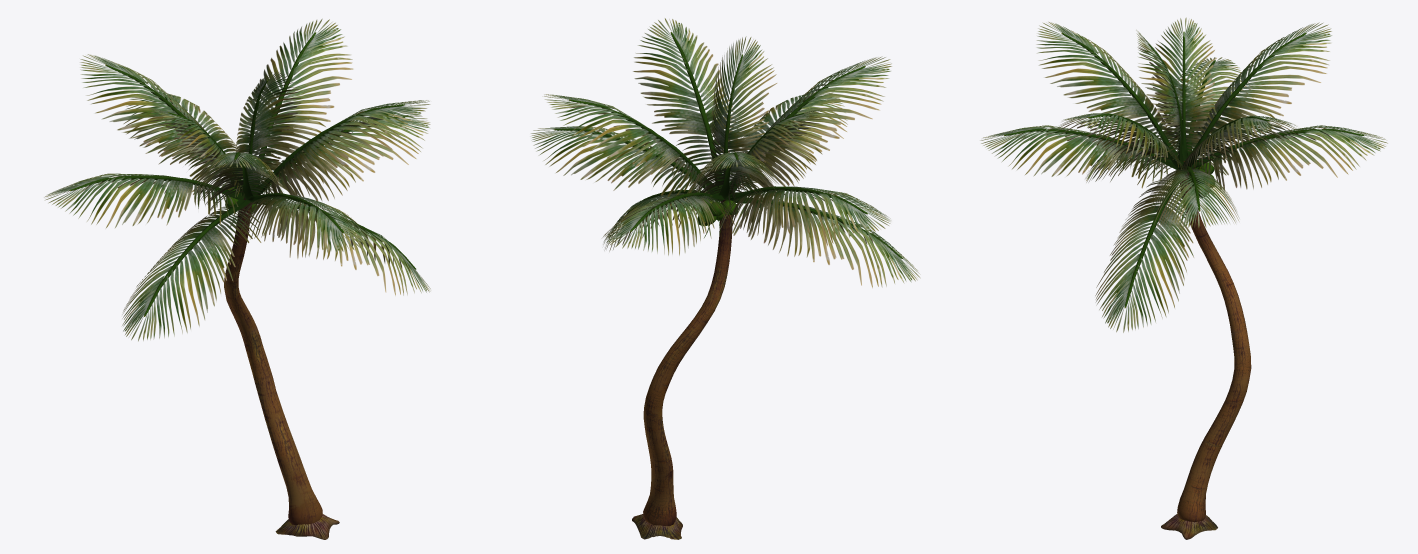
The model's file is coconut_tree.glb.
3 renders of one model, left to right at view 1: azimuth 30°, elevation 25°; view 2: azimuth 150°, elevation 25°; view 3: azimuth 270°, elevation 25°, orthographic. The views are drawn at different scales.
Visible parts, largest first — view 1: batang011_Material #322_0, batang006_Material #322_0, Bark, batang007_Material #322_0, batang003_Material #322_0, batang005_Material #322_0, batang_Material #322_0, batang001_Material #322_0, batang008_Material #322_0, batang010_Material #322_0, batang004_Material #322_0, batang002_Material #322_0 (+2 smaller); view 2: batang005_Material #322_0, Bark, batang004_Material #322_0, batang003_Material #322_0, batang008_Material #322_0, batang011_Material #322_0, batang006_Material #322_0, batang001_Material #322_0, batang002_Material #322_0, batang007_Material #322_0, batang_Material #322_0, batang009_Material #322_0 (+2 smaller); view 3: batang010_Material #322_0, Bark, batang007_Material #322_0, batang004_Material #322_0, batang002_Material #322_0, batang_Material #322_0, batang009_Material #322_0, batang001_Material #322_0, batang005_Material #322_0, batang006_Material #322_0, batang008_Material #322_0, batang003_Material #322_0 (+2 smaller).
Boxes of the visible parts, x1=… form: batang011_Material #322_0: x1=122, y1=199, x2=261, y2=341; batang006_Material #322_0: x1=237, y1=19, x2=353, y2=193; Bark: x1=224, y1=197, x2=322, y2=525; batang007_Material #322_0: x1=80, y1=54, x2=243, y2=193; batang003_Material #322_0: x1=44, y1=173, x2=244, y2=227; batang005_Material #322_0: x1=252, y1=100, x2=429, y2=216; batang_Material #322_0: x1=230, y1=193, x2=371, y2=258; batang001_Material #322_0: x1=259, y1=115, x2=430, y2=218; batang008_Material #322_0: x1=234, y1=71, x2=300, y2=197; batang010_Material #322_0: x1=254, y1=199, x2=430, y2=295; batang004_Material #322_0: x1=196, y1=152, x2=282, y2=210; batang002_Material #322_0: x1=124, y1=91, x2=267, y2=195; batang005_Material #322_0: x1=633, y1=18, x2=743, y2=188; Bark: x1=643, y1=199, x2=732, y2=526; batang004_Material #322_0: x1=730, y1=56, x2=891, y2=207; batang003_Material #322_0: x1=719, y1=186, x2=890, y2=245; batang008_Material #322_0: x1=709, y1=36, x2=777, y2=185; batang011_Material #322_0: x1=719, y1=188, x2=919, y2=287; batang006_Material #322_0: x1=544, y1=94, x2=719, y2=200; batang001_Material #322_0: x1=531, y1=126, x2=712, y2=206; batang002_Material #322_0: x1=602, y1=192, x2=735, y2=255; batang007_Material #322_0: x1=688, y1=152, x2=778, y2=211; batang_Material #322_0: x1=730, y1=92, x2=847, y2=205; batang009_Material #322_0: x1=728, y1=109, x2=821, y2=207; batang010_Material #322_0: x1=1095, y1=158, x2=1207, y2=332; Bark: x1=1177, y1=161, x2=1251, y2=522; batang007_Material #322_0: x1=1188, y1=22, x2=1332, y2=175; batang004_Material #322_0: x1=1036, y1=22, x2=1177, y2=163; batang002_Material #322_0: x1=1191, y1=125, x2=1387, y2=195; batang_Material #322_0: x1=980, y1=125, x2=1176, y2=188; batang009_Material #322_0: x1=1152, y1=17, x2=1216, y2=158; batang001_Material #322_0: x1=1149, y1=166, x2=1239, y2=227; batang005_Material #322_0: x1=1059, y1=113, x2=1183, y2=169; batang006_Material #322_0: x1=1173, y1=115, x2=1300, y2=184; batang008_Material #322_0: x1=1136, y1=30, x2=1183, y2=161; batang003_Material #322_0: x1=1163, y1=57, x2=1253, y2=172.
Bounding box in the file's own units: 30.44 × 35.39 × 29.94.
1 material, 1 textured.
